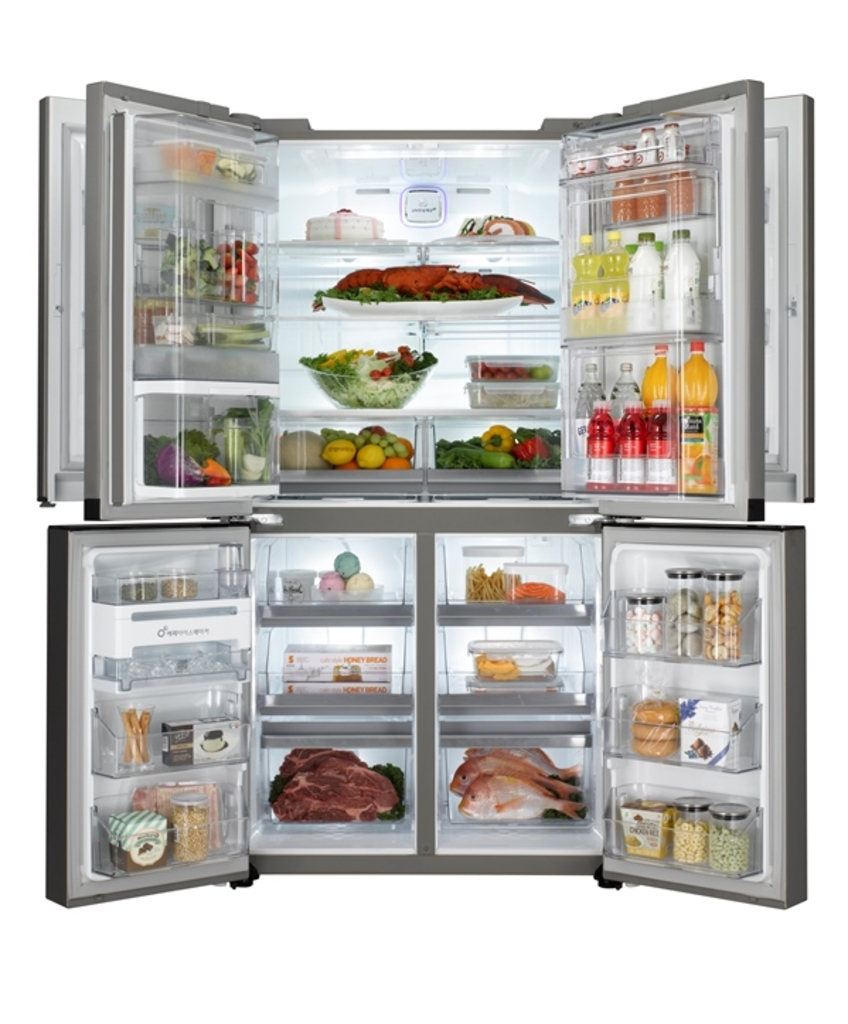refrigerator door: (601, 546, 802, 892), (568, 138, 754, 505), (51, 528, 246, 878), (102, 95, 266, 506), (763, 101, 815, 489), (41, 100, 85, 505)
